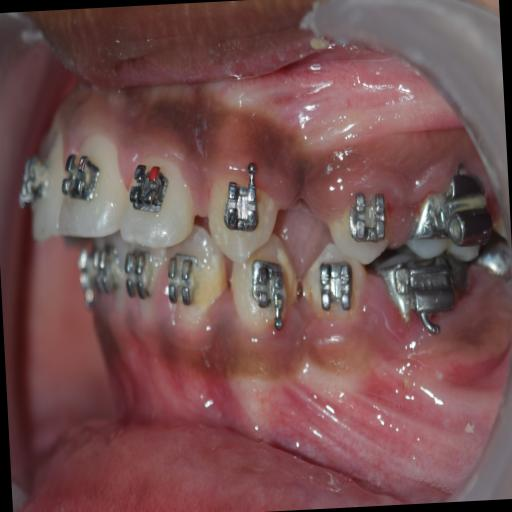correct_brace: (329, 186, 397, 272), (216, 160, 266, 238), (124, 156, 170, 218)
incorrect_brace: (113, 138, 197, 256), (346, 189, 391, 252)
